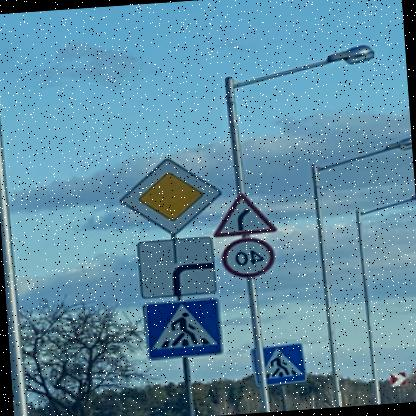crosswalk: (145, 296, 227, 360), (255, 341, 310, 385)
speedlimit: (223, 234, 281, 278)
